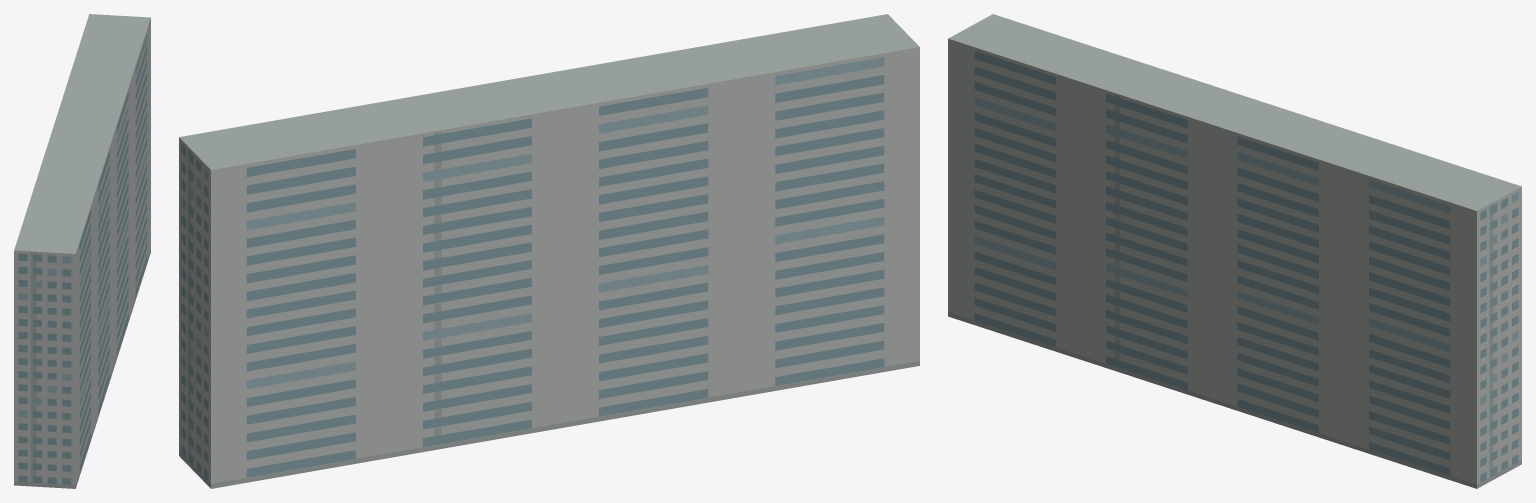
File: residential-cfaaa5e2-40a1-4e87-b05a-91dd15aaab5c.glb
3 renders of one model, left to right at view 1: azimuth 30°, elevation 25°; view 2: azimuth 150°, elevation 25°; view 3: azimuth 270°, elevation 25°, orthographic. The views are drawn at different scales.
Parts seen in each view (by area): view 1: residential-cfaaa5e2-40a1-4e87-b05a-91dd15aaab5c.tmp; view 2: residential-cfaaa5e2-40a1-4e87-b05a-91dd15aaab5c.tmp; view 3: residential-cfaaa5e2-40a1-4e87-b05a-91dd15aaab5c.tmp.
Boxes of the visible parts, bbox=[...] form: residential-cfaaa5e2-40a1-4e87-b05a-91dd15aaab5c.tmp: bbox=[14, 14, 150, 488]; residential-cfaaa5e2-40a1-4e87-b05a-91dd15aaab5c.tmp: bbox=[179, 14, 919, 488]; residential-cfaaa5e2-40a1-4e87-b05a-91dd15aaab5c.tmp: bbox=[948, 14, 1521, 488].
Size of the model in its own units: 83.49 by 54.9 by 103.
